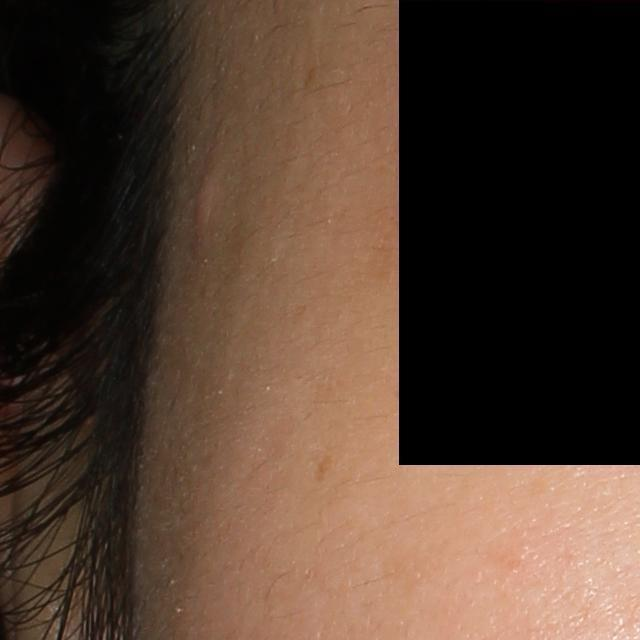melasma: (313, 454, 337, 483)
papule: (190, 169, 219, 243)
